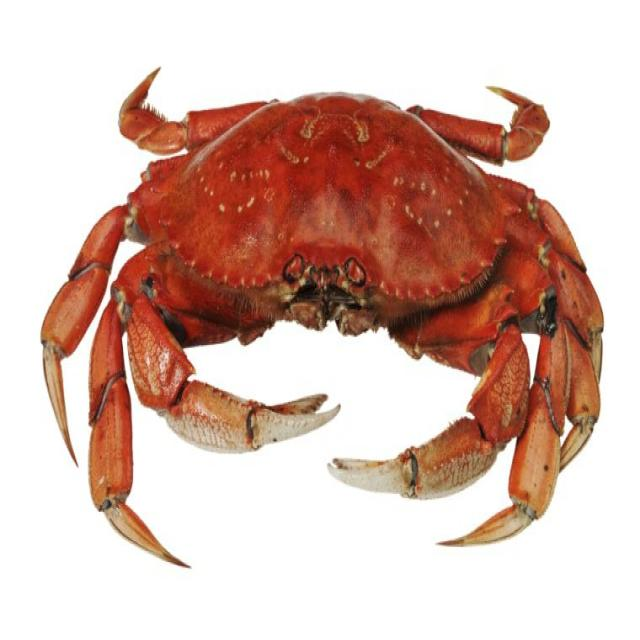crab: (136, 48, 497, 404)
